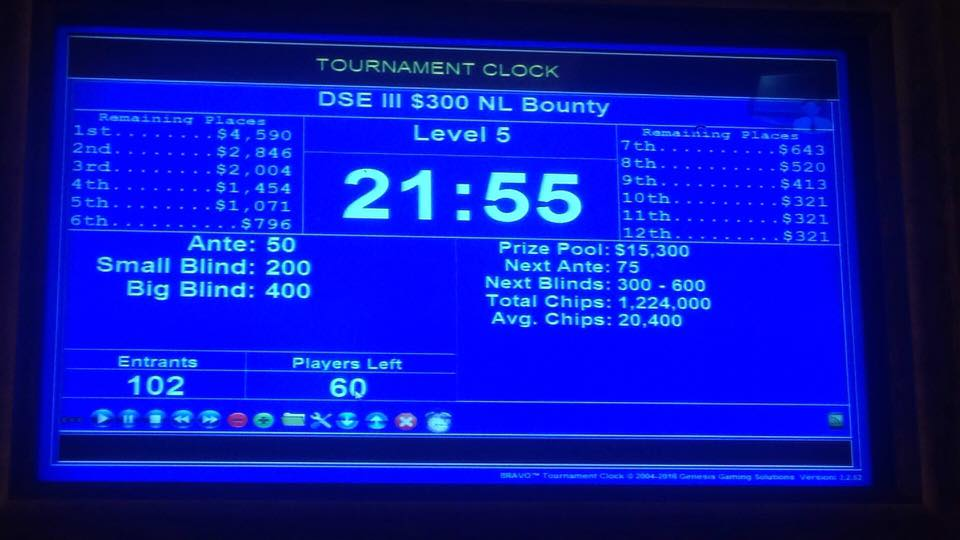PlayersLeft: (244, 350, 461, 406)
Remaining: (60, 106, 307, 237), (614, 122, 845, 246)
TournamentClock: (55, 84, 853, 411)
